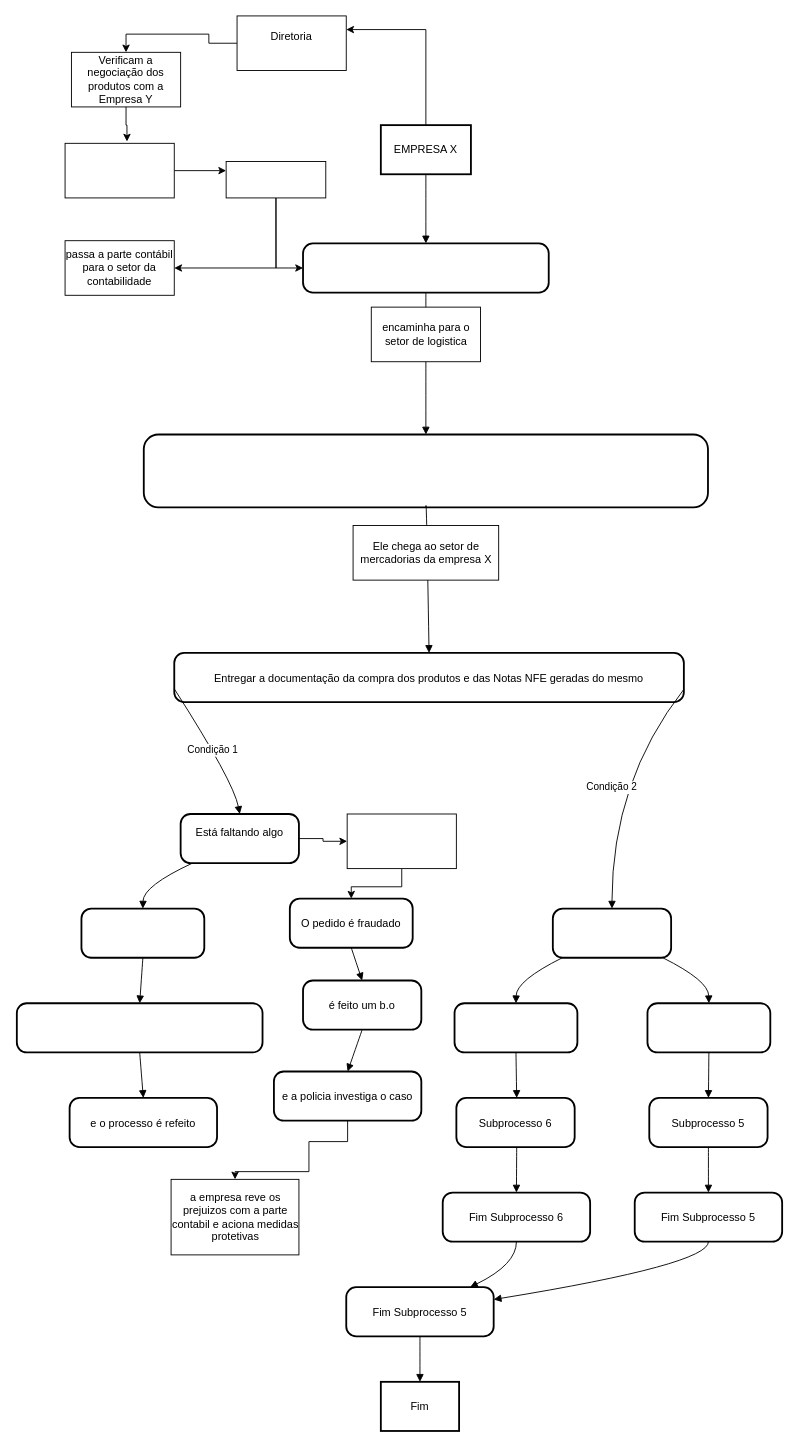
The diagram is 798 pixels wide and 1448 high, and some of its shapes have lost their labels. Here are the shapes that lost their labels. From the top down, the centre of each, then its label:
[119,170]: Encaminham para a Administração a parte burocratica
[275,179]: Administração
[425,267]: Recebe a confirmação da venda de um produto Pela administração.
[425,470]: um funcionário representa a empresa "Y" que comprou da EMPRESA X
[401,841]: é ignorado e mesmo assim é inviado
[142,932]: O pedido é recusado
[611,932]: Subprocesso 2
[139,1027]: é repassado novamente para a administração
[515,1027]: Subatividade 4
[708,1027]: Subatividade 3
